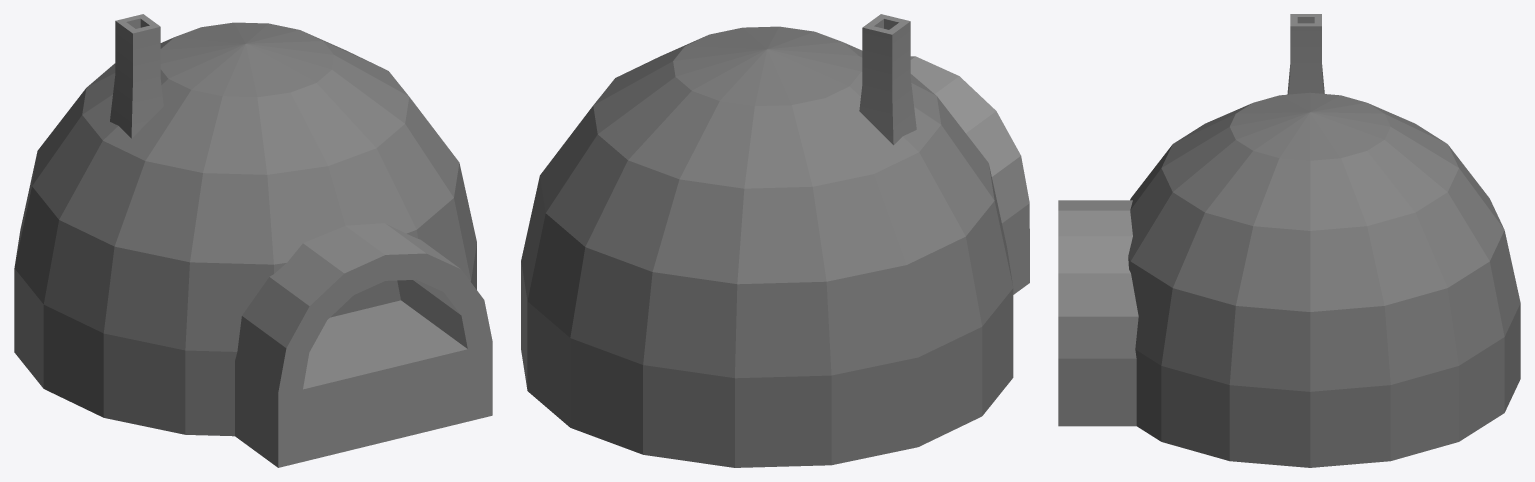
File: oven_a.FBX
3 views of the same model, side by side, from view 1: azimuth 30°, elevation 25°; view 2: azimuth 150°, elevation 25°; view 3: azimuth 270°, elevation 25° (orthographic). The views are drawn at different scales.
Visible parts, largest first — view 1: oven_a; view 2: oven_a; view 3: oven_a.
Boxes of the visible parts, x1,y1,x2,y2 form: oven_a: [14, 14, 492, 467]; oven_a: [521, 14, 1029, 467]; oven_a: [1058, 14, 1520, 467].
Size of the model in its own units: 1.97 by 1.6 by 2.16.
